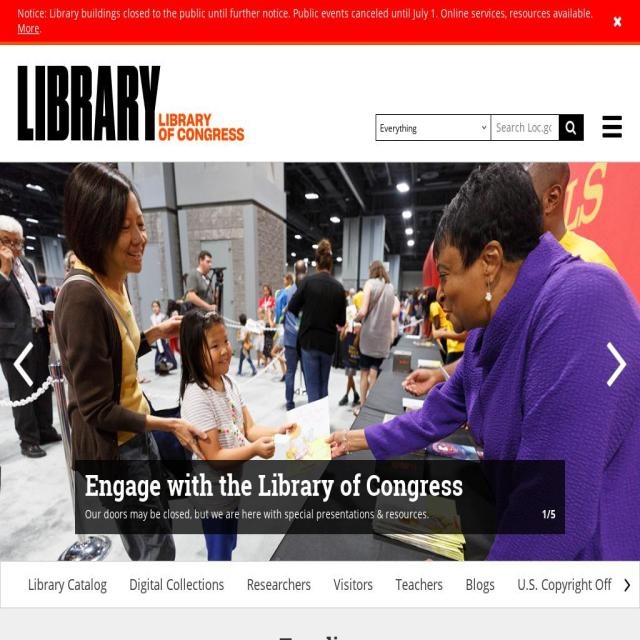button: (0, 162, 640, 561), (18, 66, 244, 141), (593, 98, 631, 162), (12, 336, 38, 392), (602, 336, 628, 392), (559, 115, 583, 140), (604, 13, 622, 29)
field: (376, 115, 491, 140), (491, 115, 558, 140)
heading: (85, 468, 527, 500), (9, 631, 631, 640)
image: (0, 162, 640, 561), (18, 66, 244, 141)
link: (85, 504, 527, 523), (518, 574, 626, 594), (130, 574, 224, 594), (28, 574, 107, 594), (247, 574, 311, 594), (396, 574, 443, 594), (334, 574, 373, 594), (466, 574, 495, 594), (18, 20, 40, 36)
text: (18, 5, 593, 21), (542, 504, 556, 523), (39, 20, 42, 36)
